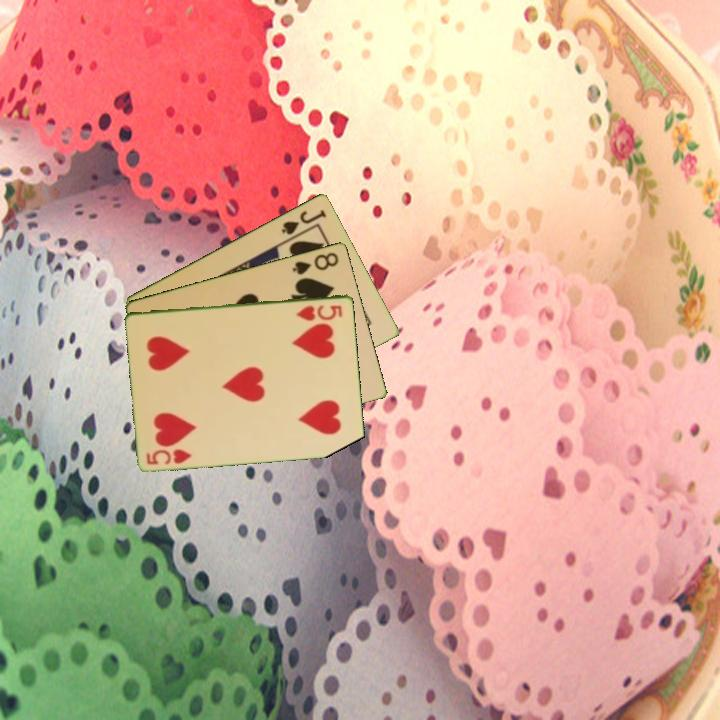5h: (293, 301, 346, 323), (143, 445, 194, 467)
8s: (289, 248, 342, 277)
Js: (278, 206, 329, 237)
